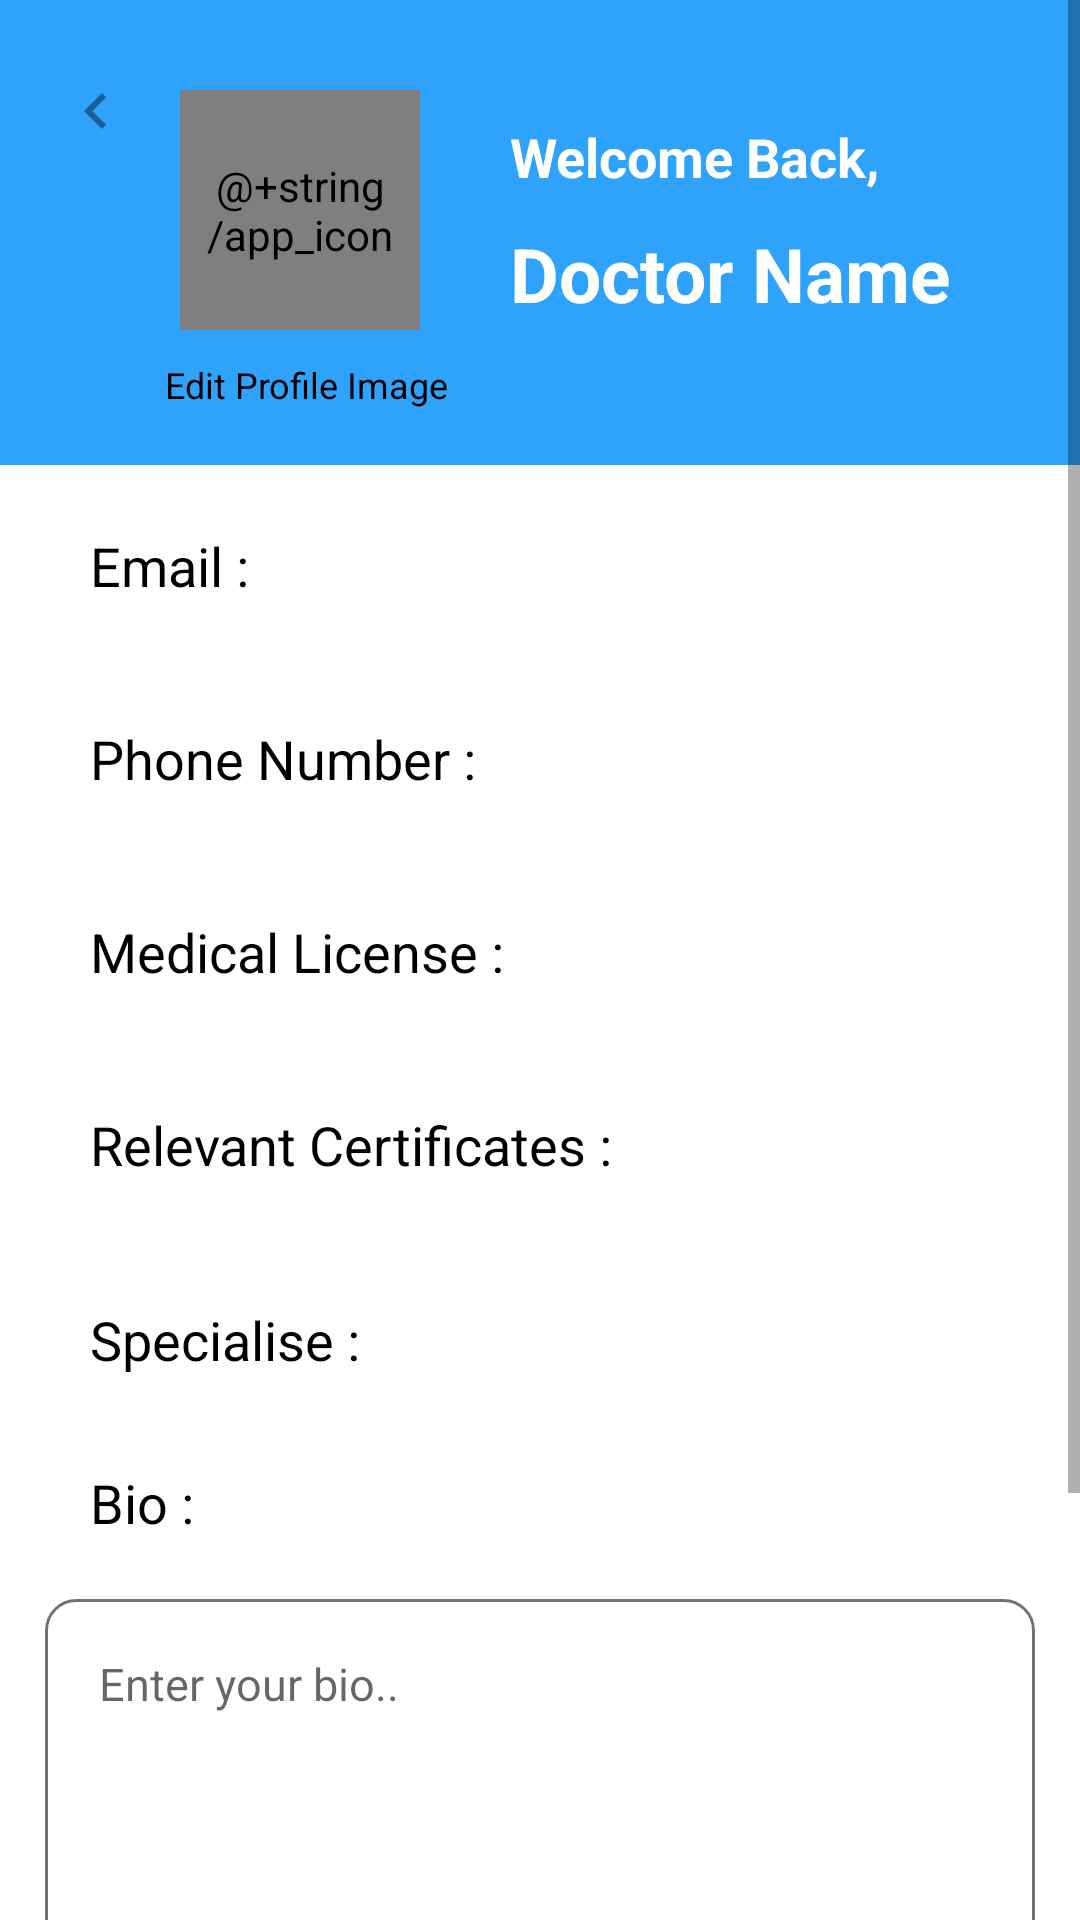

Screen size 1080*1920. Icon name, then its box in pixels as (x1,y1,x2,y2):
back: (84,93,106,129)
